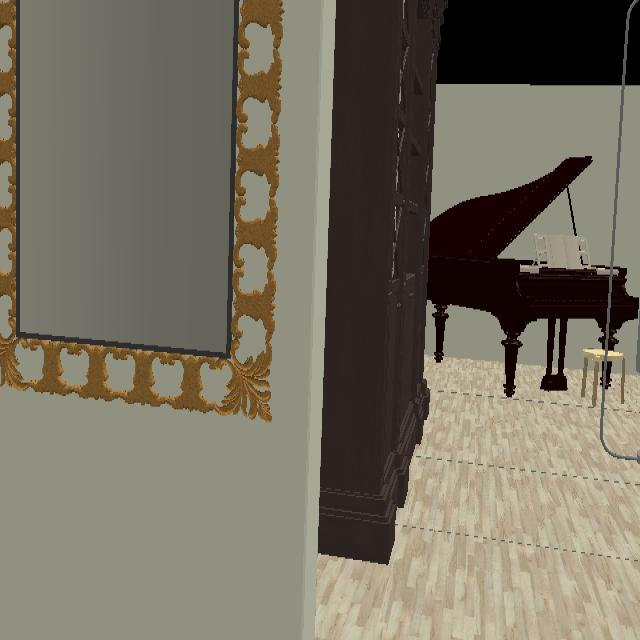bookshelf: (319, 0, 446, 562)
